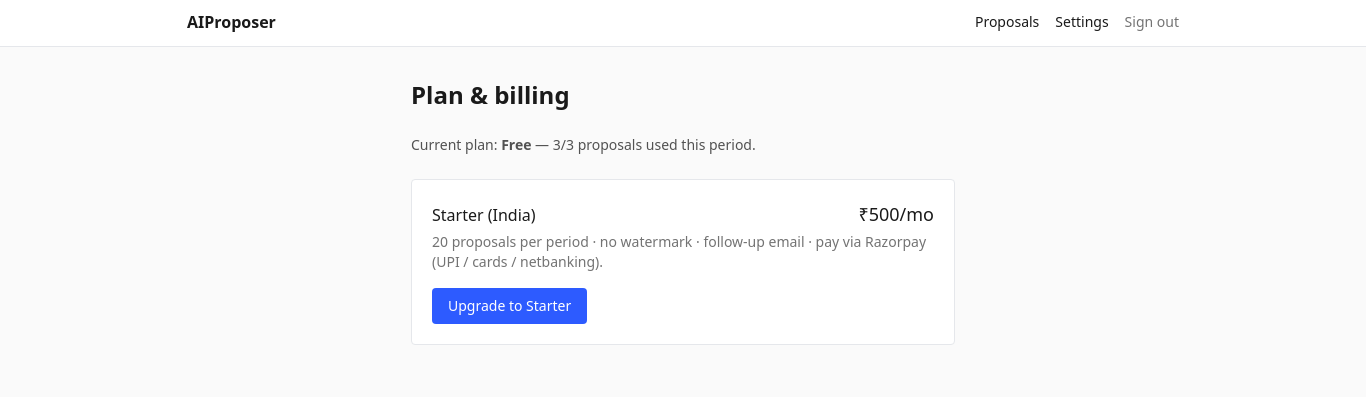
Test: modal dismiss -> neutral cancelled note, plan unchanged (AC 4)
This screenshot has width=1366, height=397.
expect the text "Current plan: Free — 3/3 proposals used this period." is shown: met, box 411,135 -> 756,154
Click the button "Upgrade to Starter" at (510, 306), box 432,288 -> 587,324
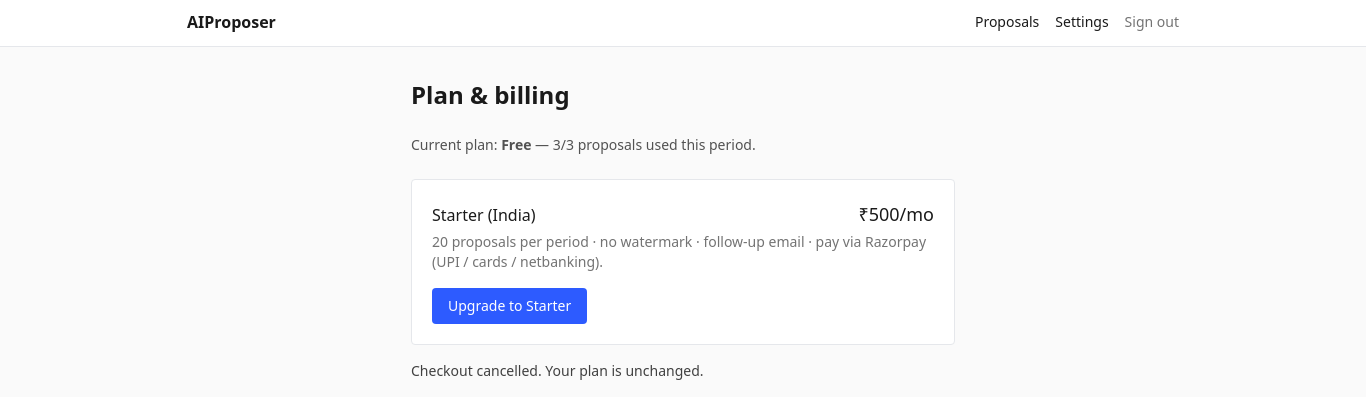
expect the text "Current plan: Free — 3/3 proposals used this period." is shown: met, box 411,135 -> 756,154
expect the text "Checkout cancelled. Your plan is unchanged." is shown: met, box 411,361 -> 704,380
